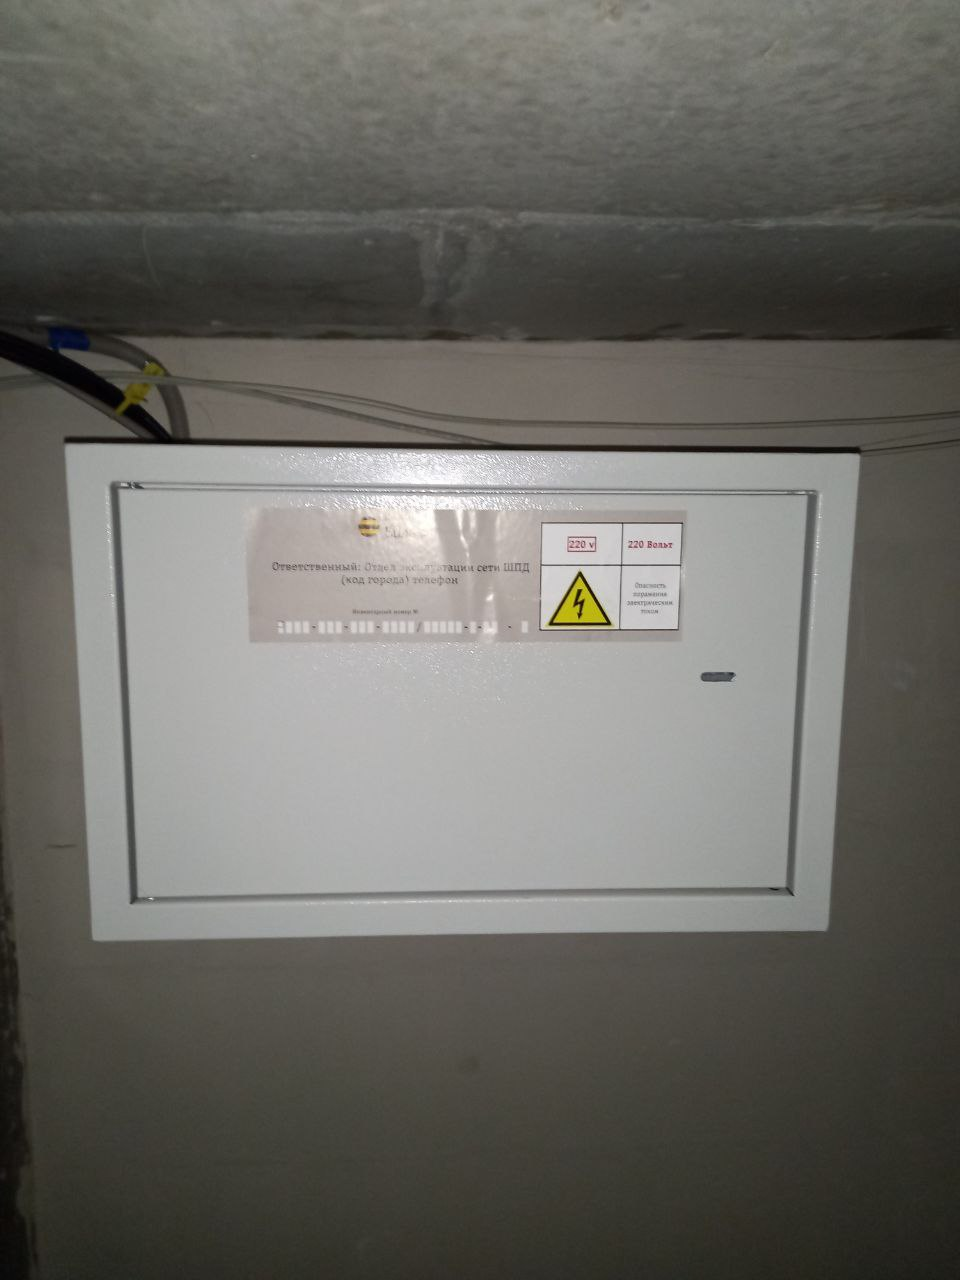shta-7m: (47, 420, 877, 956)
